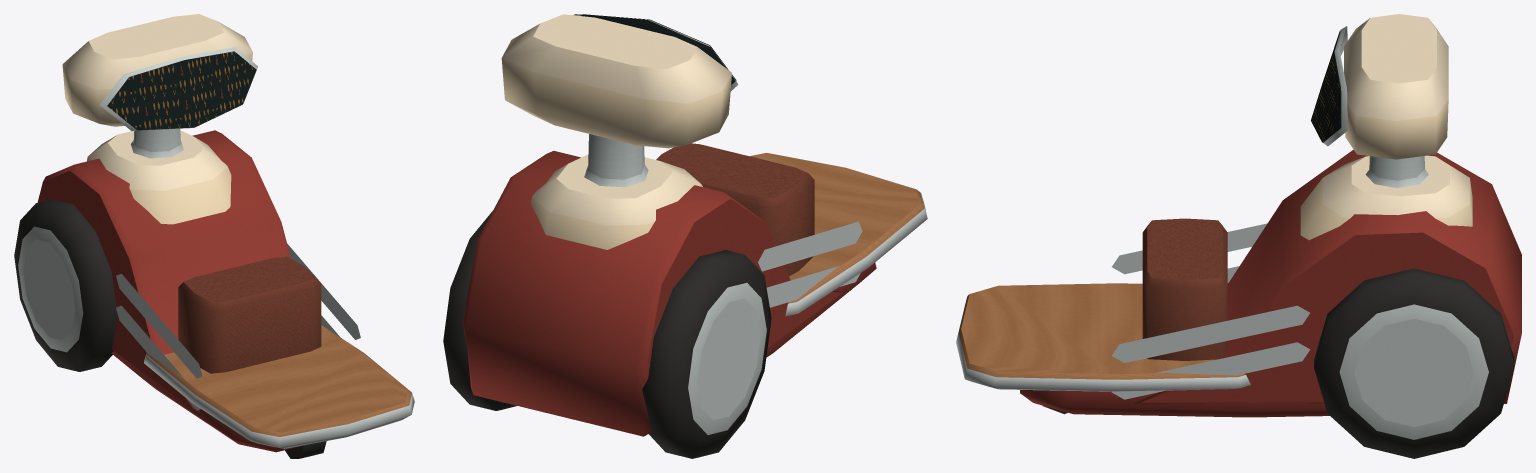
File: Porter-L2.fbx
3 views of the same model, side by side, from view 1: azimuth 30°, elevation 25°; view 2: azimuth 150°, elevation 25°; view 3: azimuth 270°, elevation 25° (orthographic). The views are drawn at different scales.
Visible parts, largest first — view 1: Porter_Silhouette, Porter_Head_Face; view 2: Porter_Silhouette; view 3: Porter_Silhouette, Porter_Head_Face.
Part boxes in pixels (box(x1,y1,x2,y2)): Porter_Silhouette: box(14, 14, 414, 458); Porter_Head_Face: box(107, 51, 256, 130); Porter_Silhouette: box(443, 14, 927, 458); Porter_Silhouette: box(956, 14, 1521, 458); Porter_Head_Face: box(1311, 30, 1340, 142).
Bounding box in the file's own units: 0.9366 × 1.39 × 1.99.
Materials: 2 (2 with a texture image).
